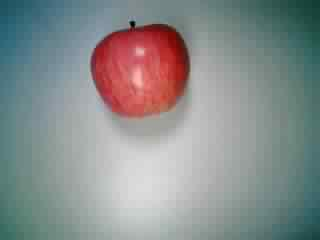apple: (88, 17, 192, 121)
